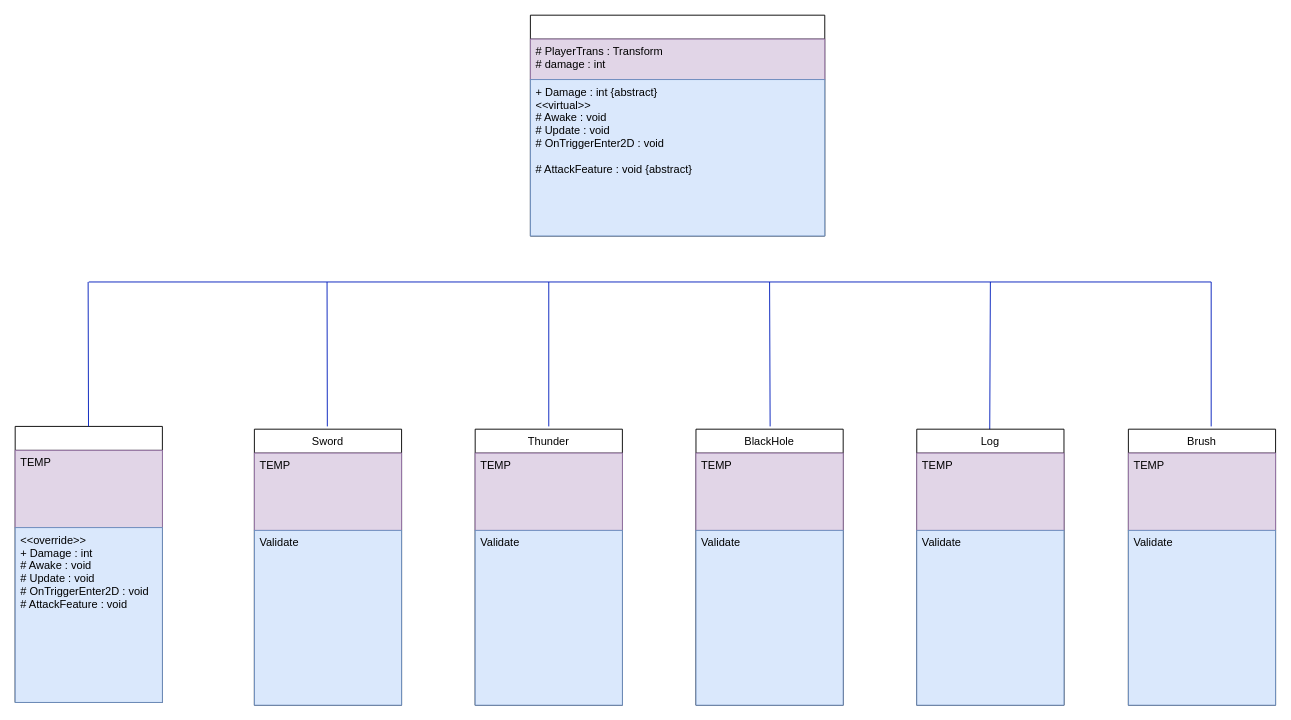
Some shapes in this 1291 by 720 pixel diagram are drawn without their labels. The shapes that lost their labels are listed below. From the top down, each one's box as (x1, y1, x2, y2) in pixels, then its label:
(529, 14, 825, 236): WeaponBase
(14, 426, 162, 702): Charm
